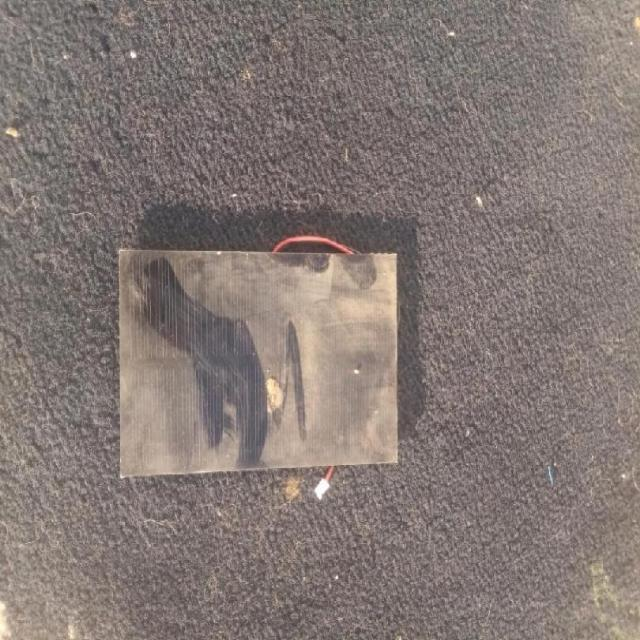Anomaly Solar Panel: (115, 245, 401, 480)
Surface Contaminant: (115, 246, 400, 477)
